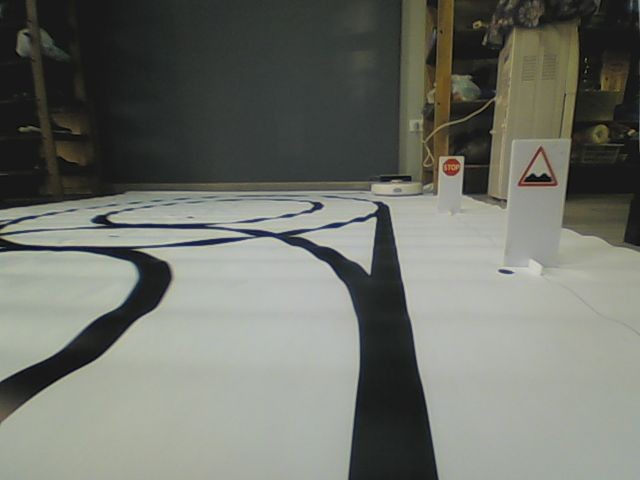Stop: (441, 157, 461, 178)
